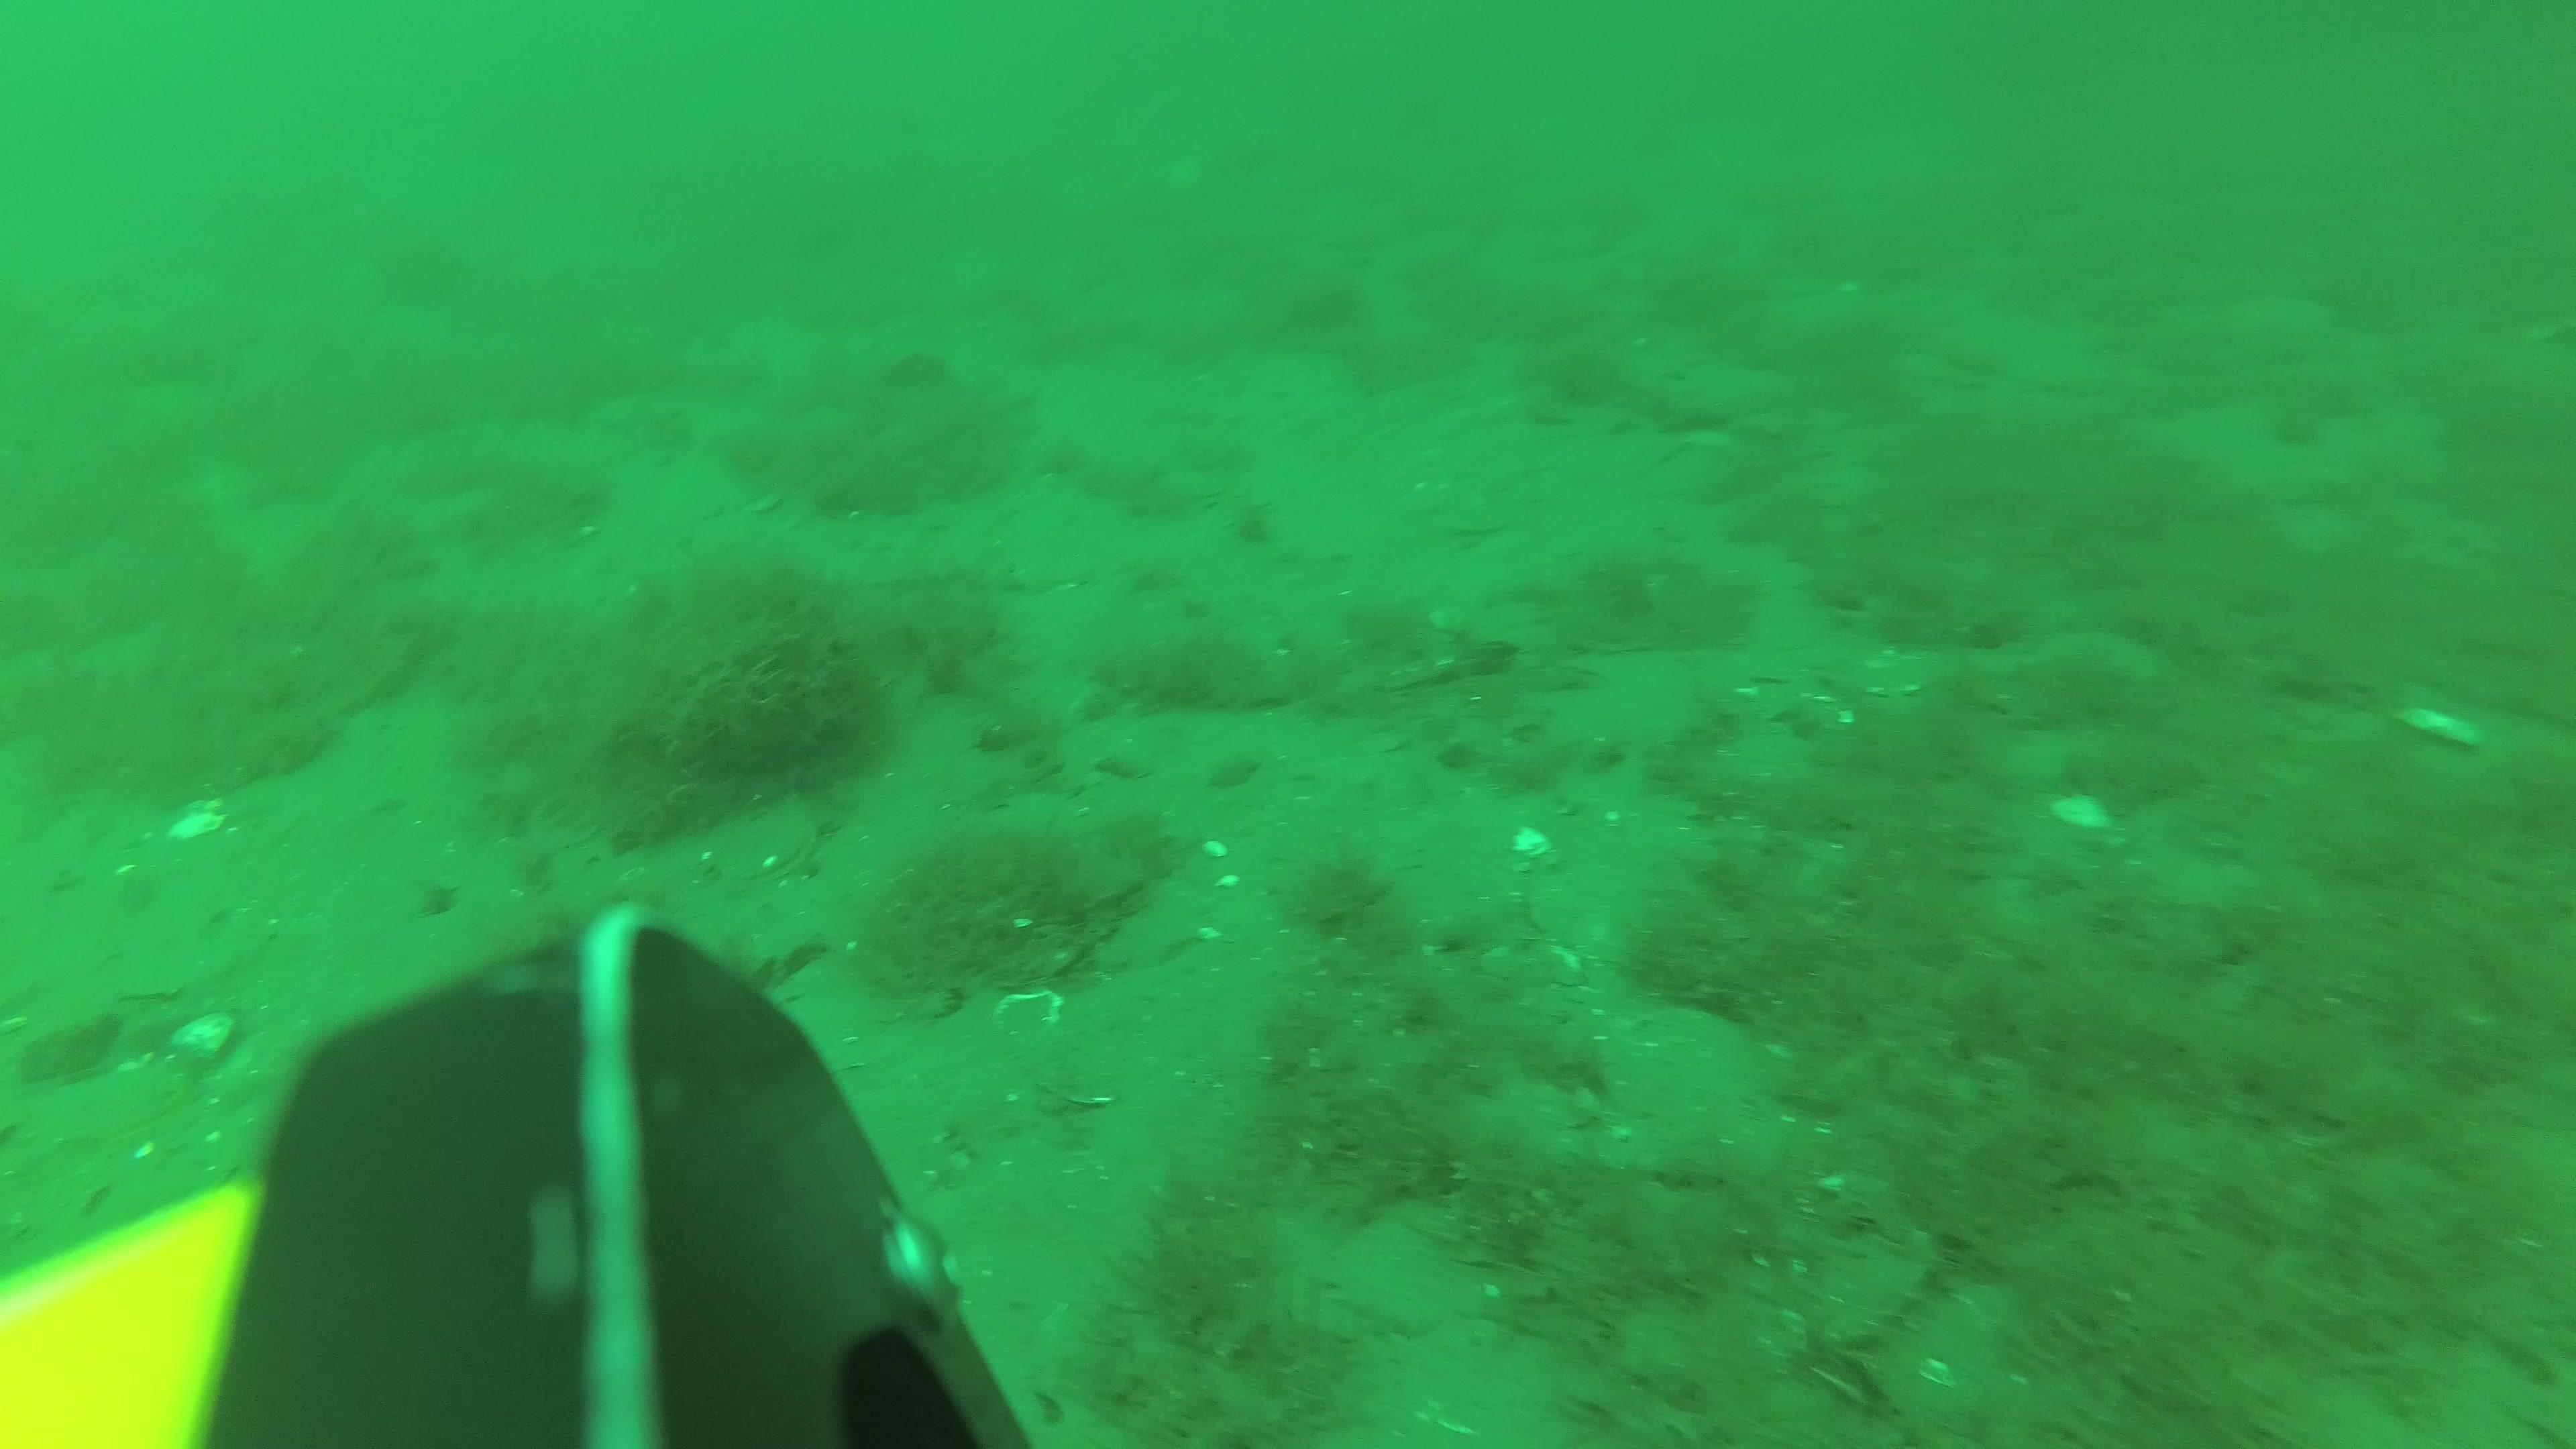scallop: (720, 805, 817, 888), (1000, 987, 1065, 1049)
